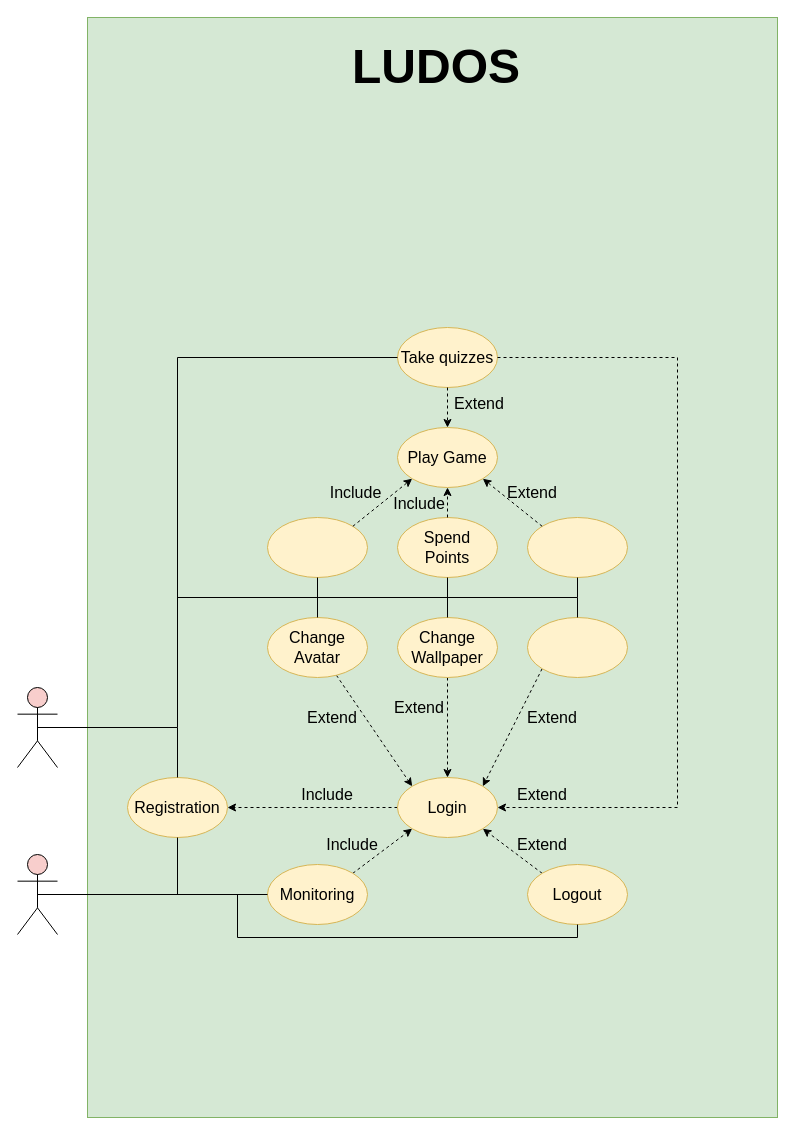
Image size: 795x1135. Some labels were removed from this diagram. The centre of each missing label's shape, as x and y in pixels:
Child: the point at 37,727
Collect Points: the point at 317,547
Edit Profile: the point at 577,647
Get Achivments: the point at 577,547
Parent: the point at 37,894
